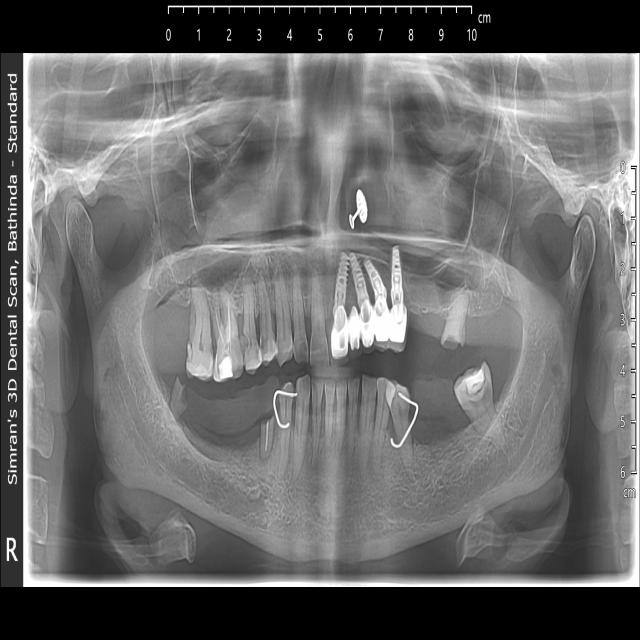Caries: (243, 332, 250, 350)
Crown: (348, 297, 406, 351), (332, 307, 349, 358)
Filling: (460, 367, 485, 398)
Implant: (349, 258, 369, 310), (364, 256, 387, 301), (391, 245, 403, 305), (335, 253, 347, 311)
Missing teeth: (185, 403, 253, 463), (417, 395, 467, 455), (410, 303, 438, 348)
Root Canal Treatment: (212, 288, 245, 379), (260, 412, 279, 464)
Root Piece: (442, 292, 469, 349), (164, 380, 186, 428)
